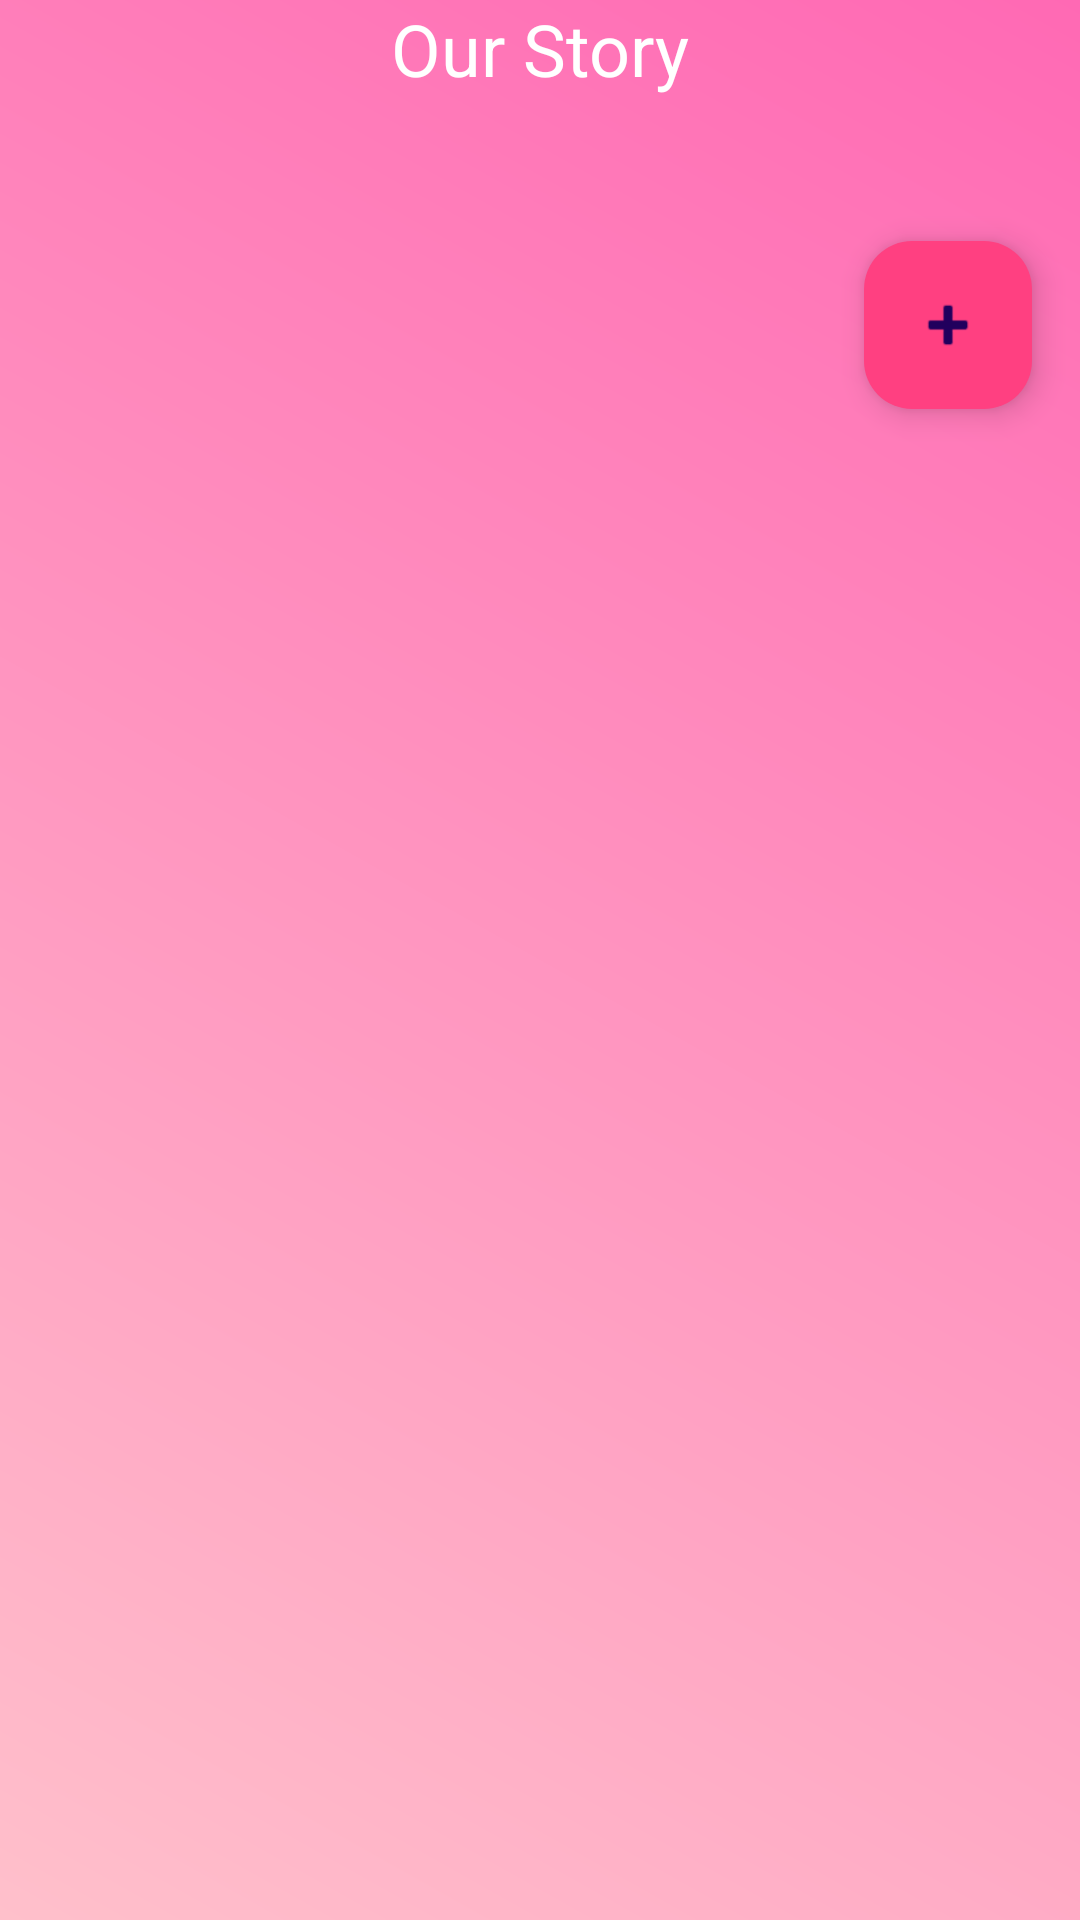

Icons on this 1080 × 1920 Android screen, each with its box as [x1=x1, y1=y1, x2=x2, y2=y2]:
add: [x1=864, y1=241, x2=1032, y2=409]
